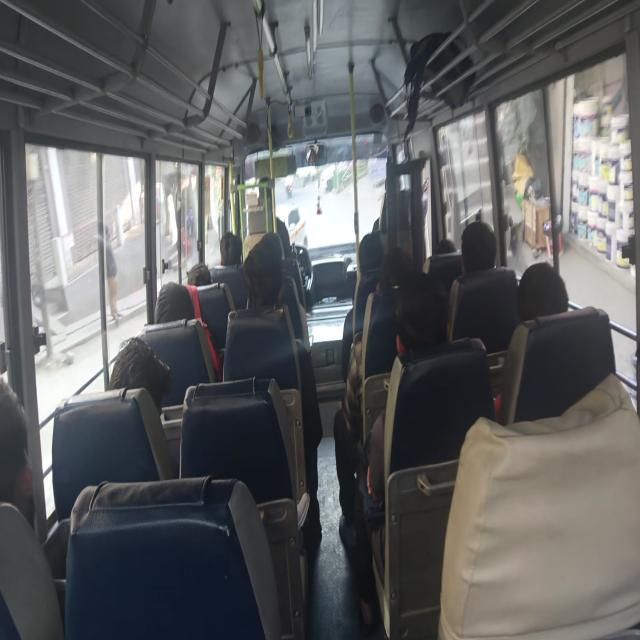person: (0, 365, 71, 538), (397, 281, 460, 380), (126, 326, 193, 413), (501, 272, 561, 332), (148, 289, 196, 344), (464, 223, 506, 285), (240, 243, 283, 303), (375, 248, 412, 301), (352, 233, 384, 270), (210, 226, 243, 261), (186, 254, 214, 294), (438, 235, 468, 268), (261, 221, 290, 253)
